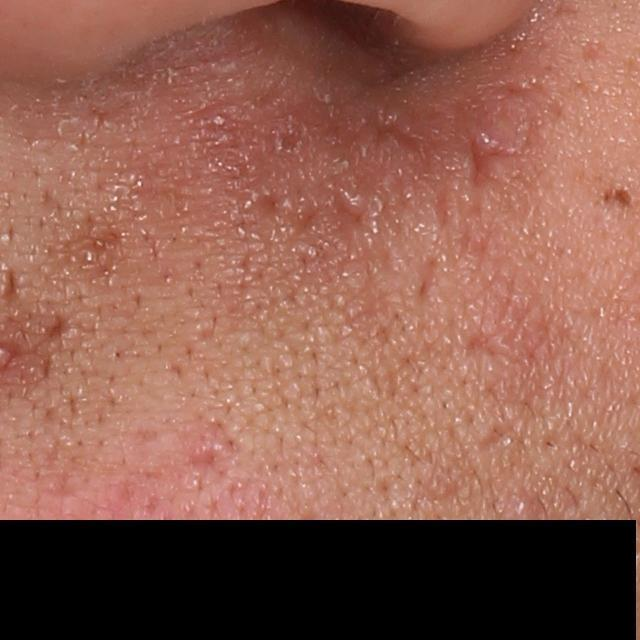atrophic_scar: (361, 101, 489, 179), (467, 129, 526, 190), (464, 330, 509, 385), (331, 185, 372, 244), (416, 248, 447, 309)
nevus: (603, 185, 633, 209)
